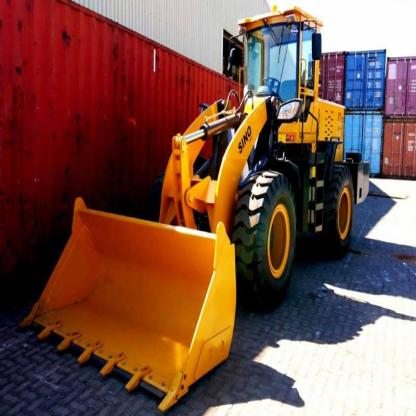bull_dozer/loader/grader: (35, 8, 395, 396)
